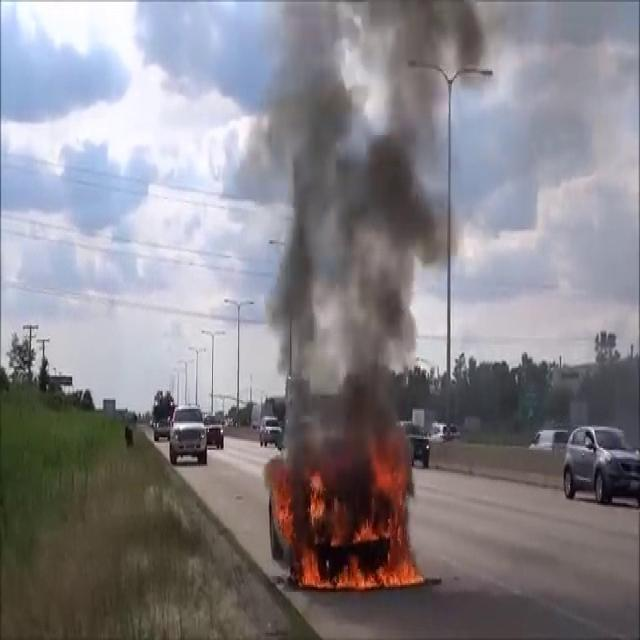Fire: (296, 444, 426, 596)
Smoke: (266, 1, 452, 487)
